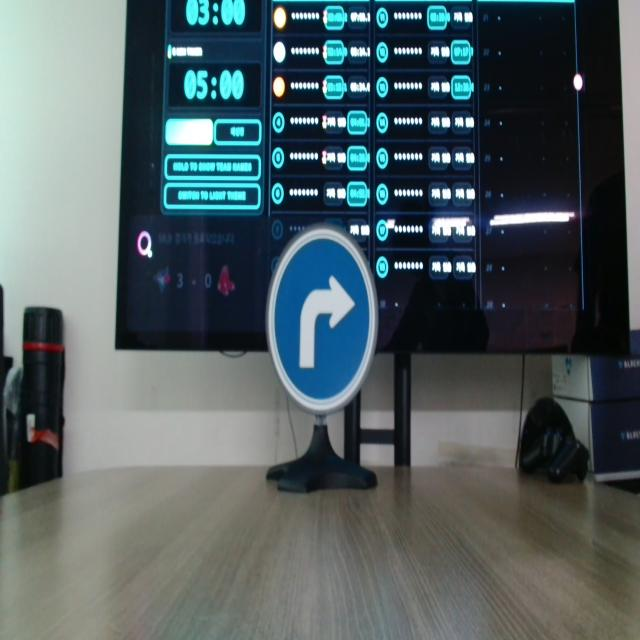right_dierection: (260, 214, 404, 447)
